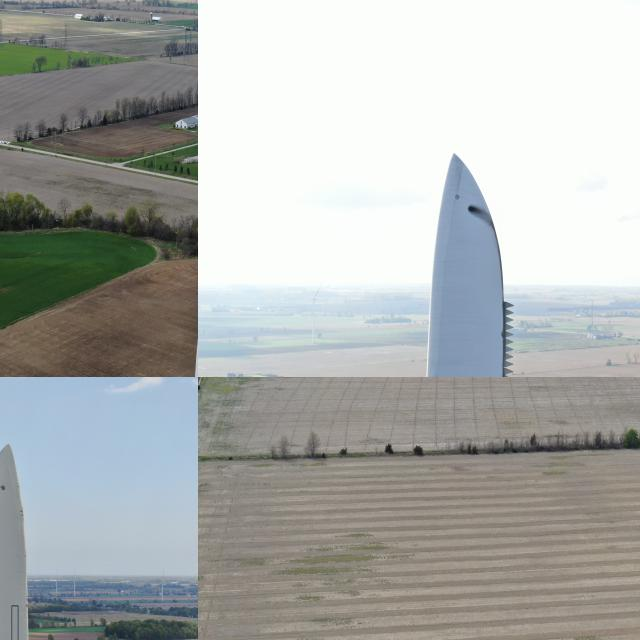damage: (467, 200, 495, 226), (18, 506, 24, 524), (16, 478, 20, 492)
